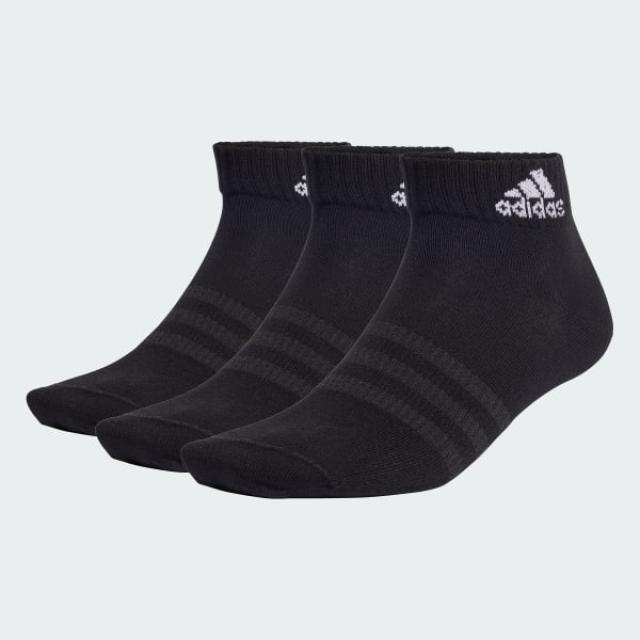sock: (180, 150, 614, 500), (26, 139, 348, 438)
